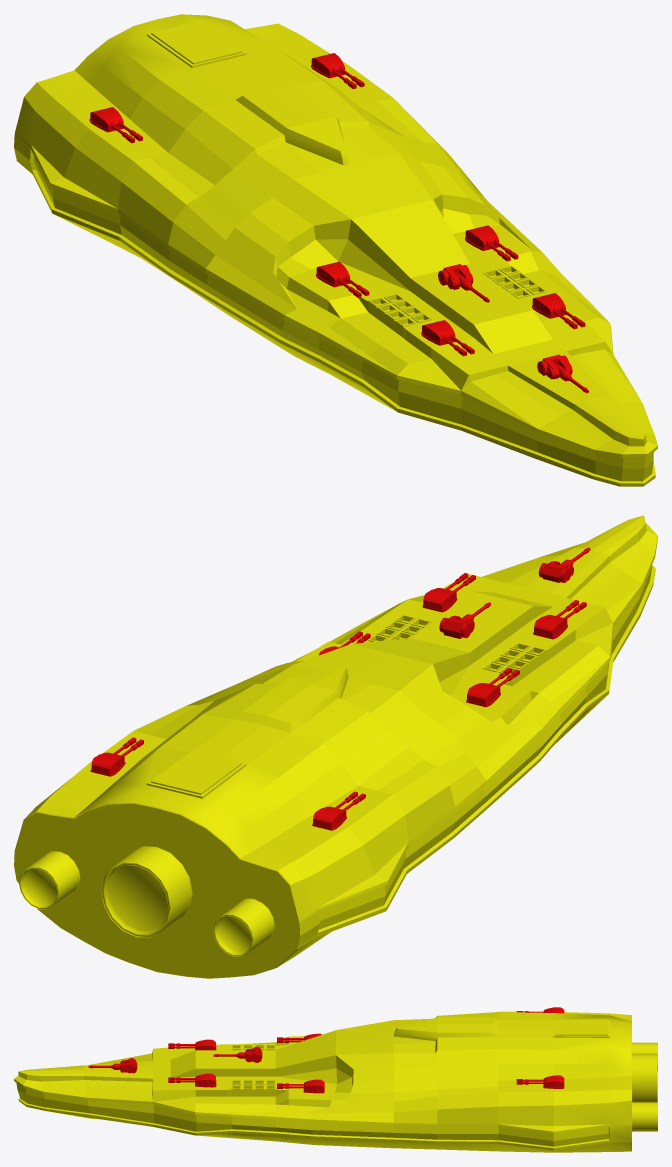
File: Destroyer.fbx
The picture shows the model from 3 angles, top to bottom: view 1: azimuth 30°, elevation 25°; view 2: azimuth 150°, elevation 25°; view 3: azimuth 270°, elevation 25°; orthographic projection. The views are drawn at different scales.
Parts seen in each view (by area): view 1: body; view 2: body; view 3: body, polySurface13, polySurface11, polySurface5, pCube3, pasted__pCube3.
Part boxes in pixels (x1,y1,x2,y2): body: [14, 14, 657, 486]; body: [14, 515, 657, 978]; body: [14, 1011, 657, 1152]; polySurface13: [195, 1073, 216, 1087]; polySurface11: [303, 1079, 324, 1093]; polySurface5: [543, 1075, 564, 1088]; pCube3: [244, 1046, 262, 1062]; pasted__pCube3: [119, 1058, 137, 1073].
Size of the model in its own units: 22.83 by 11.35 by 59.78.
